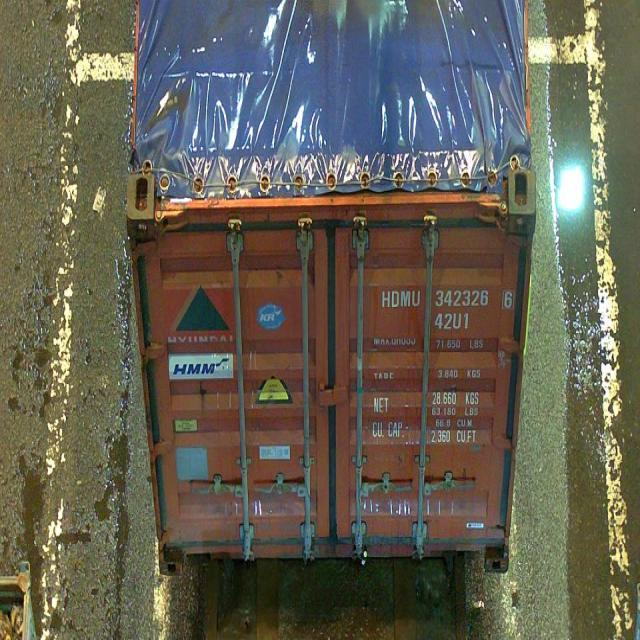ISO: (434, 312, 472, 332)
container_number: (381, 287, 514, 310)
